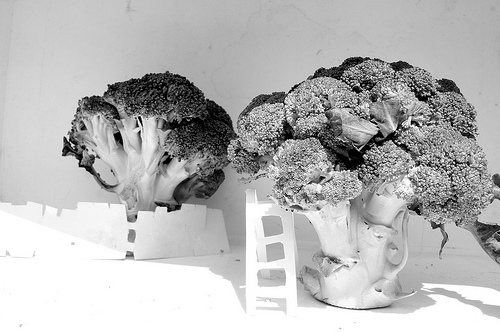broccoli: (65, 69, 237, 205)
